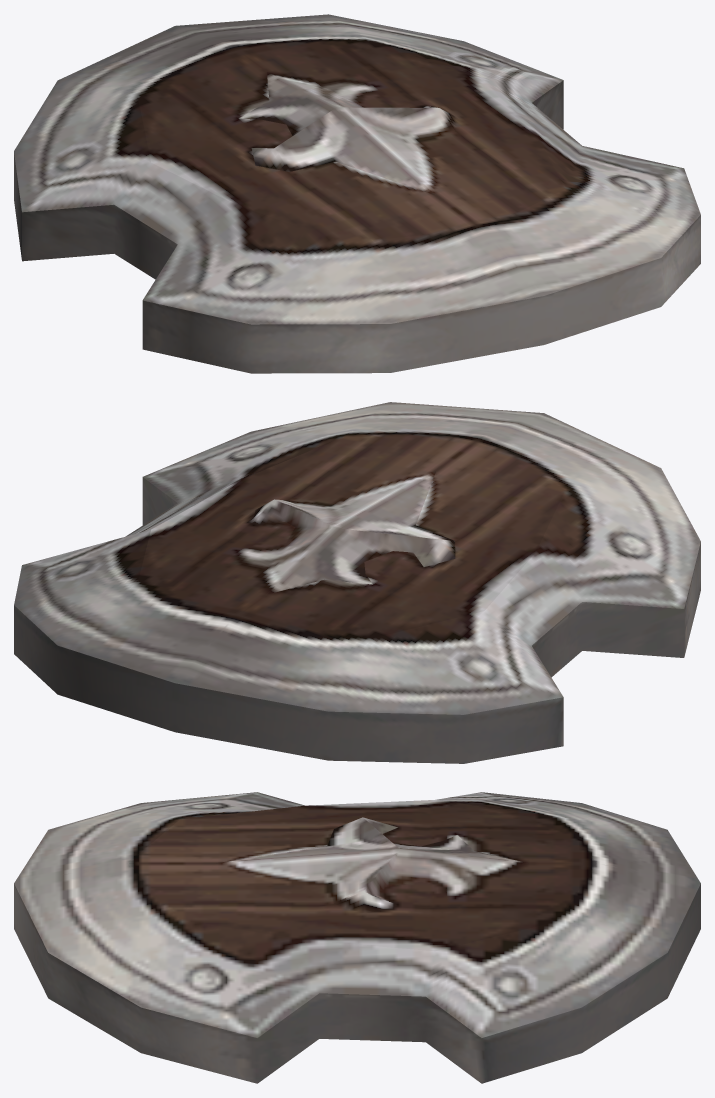
File: heavyshield_020lv_01_o01.FBX
3 renders of one model, top to bottom at view 1: azimuth 30°, elevation 25°; view 2: azimuth 150°, elevation 25°; view 3: azimuth 270°, elevation 25°, orthographic. The views are drawn at different scales.
Parts seen in each view (by area): view 1: heavyshield_020lv_01_o01; view 2: heavyshield_020lv_01_o01; view 3: heavyshield_020lv_01_o01.
Boxes of the visible parts, left/top/right/bottom form: heavyshield_020lv_01_o01: left=14, top=14, right=700, bottom=373; heavyshield_020lv_01_o01: left=14, top=402, right=700, bottom=763; heavyshield_020lv_01_o01: left=14, top=792, right=700, bottom=1083.
Bounding box in the file's own units: 0.5428 × 0.1148 × 0.6406.
